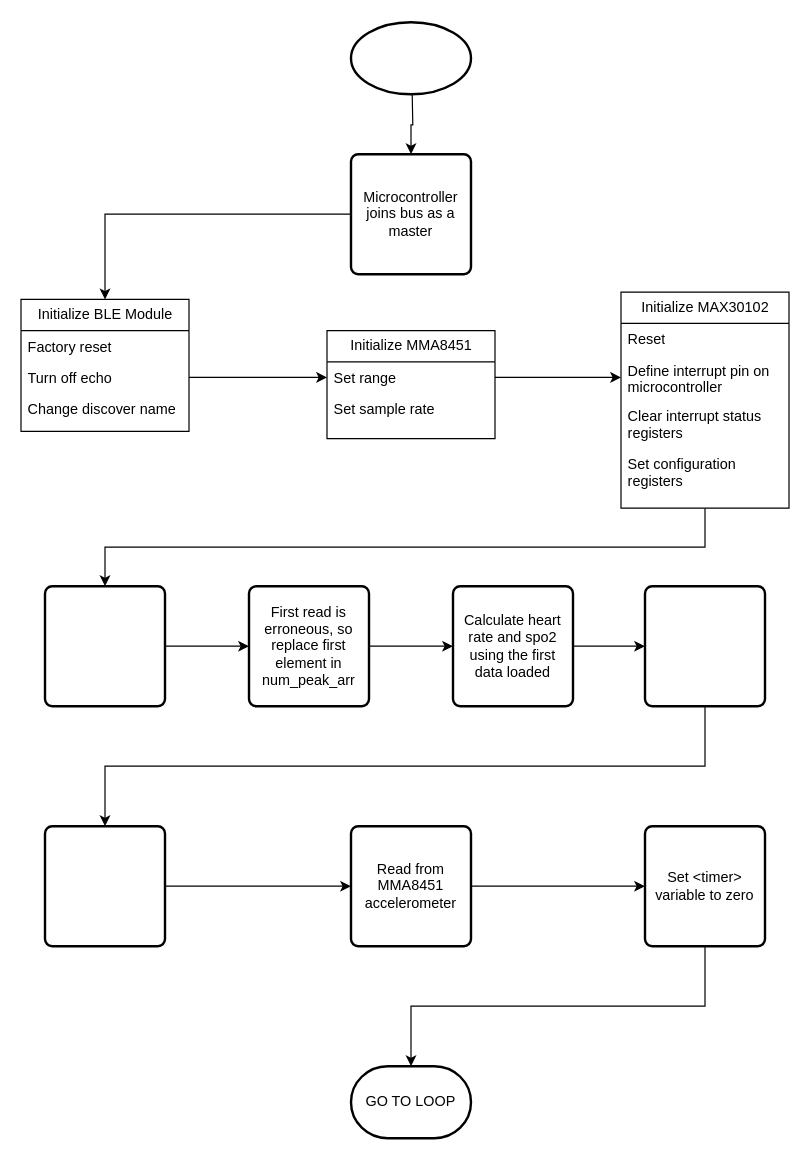
The diagram is 810 pixels wide and 1159 high, and some of its shapes have lost their labels. The shapes that lost their labels are listed below. From the top down, each one's centre as x and y in pixels, then its label:
At [410,57]: "START Power WAFR Device".
At [104,645]: "Read from MAX30102 until num_peak_arr is full".
At [704,645]: "Fill heart rate and spo2 buffers with the result from the first calculation".
At [104,885]: "Set avg_hr to heart_rate and set avg_spo2 to spo2".
